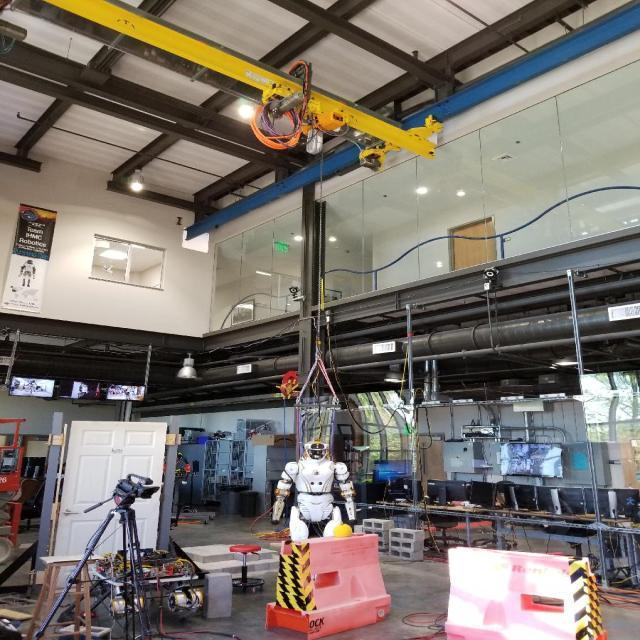door: (48, 418, 170, 588), (60, 509, 76, 518)
